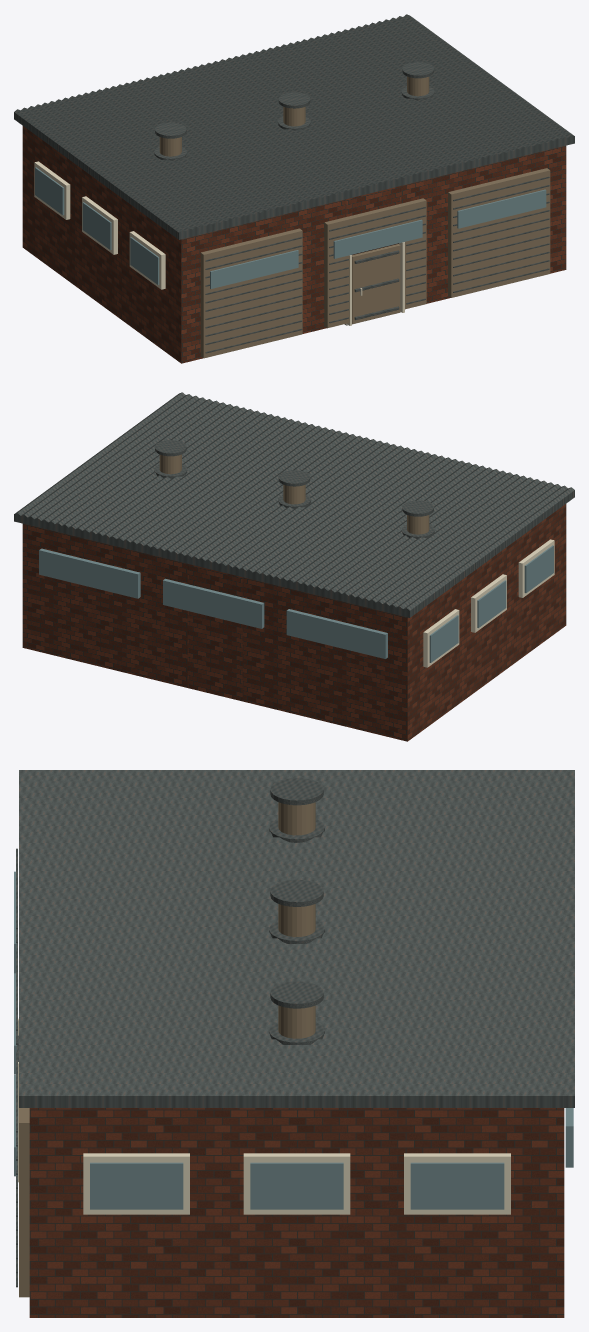
Rendered from garage.glb.
3 views of the same model, one above another, from view 1: azimuth 30°, elevation 25°; view 2: azimuth 150°, elevation 25°; view 3: azimuth 270°, elevation 25° (orthographic). The views are drawn at different scales.
Visible parts, largest first — view 1: vent flashing, workshop wing, roof vent, workshop glazing, workshop wicket, workshop side window, wicket reinforcing rib; view 2: vent flashing, workshop wing, workshop glazing, workshop side window, roof vent; view 3: vent flashing, workshop wing, workshop glazing, workshop side window, roof vent.
Boxes of the visible parts, x1,y1,x2,y2 form: vent flashing: (14, 14, 574, 353); workshop wing: (22, 126, 566, 363); roof vent: (159, 76, 550, 358); workshop glazing: (35, 167, 546, 288); workshop wicket: (352, 244, 400, 324); workshop side window: (34, 161, 404, 325); wicket reinforcing rib: (354, 250, 399, 320); vent flashing: (14, 392, 574, 617); workshop wing: (22, 504, 566, 741); workshop glazing: (39, 545, 553, 662); workshop side window: (423, 539, 554, 667); roof vent: (159, 454, 429, 534); vent flashing: (16, 770, 574, 1287); workshop wing: (29, 1108, 564, 1317); workshop glazing: (14, 871, 573, 1209); workshop side window: (18, 1018, 510, 1214); roof vent: (19, 802, 315, 1297).
Bounding box in the file's own units: 14.4 × 5.63 × 10.49.
6 materials, 2 textured.
